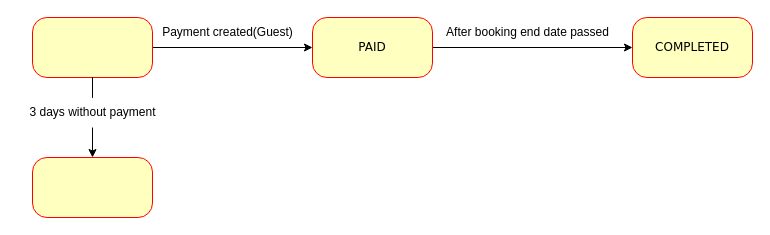
Some shapes in this 770 by 235 pixel diagram are drawn without their labels. The centre of each missing label's shape, as x and y in pixels:
"Cancelled" goes at (92,187).
"CREATED" goes at (92,47).
